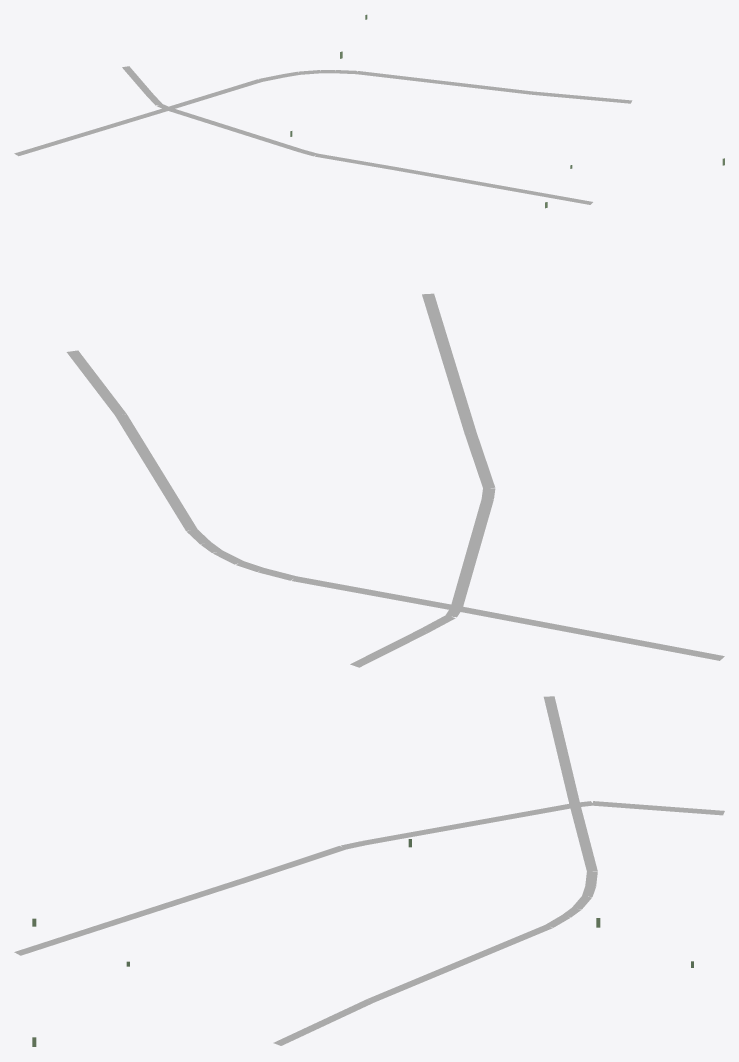
3 views of the same model, one above another, from view 1: azimuth 30°, elevation 25°; view 2: azimuth 150°, elevation 25°; view 3: azimuth 270°, elevation 25° (orthographic). The views are drawn at different scales.
Size of the model in its own units: 529 by 7.11 by 454.
